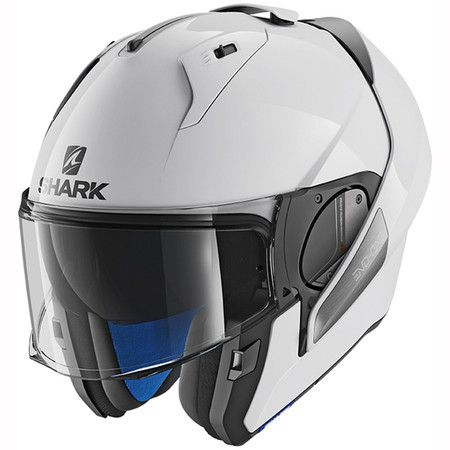with_helmet: (11, 1, 439, 446)
